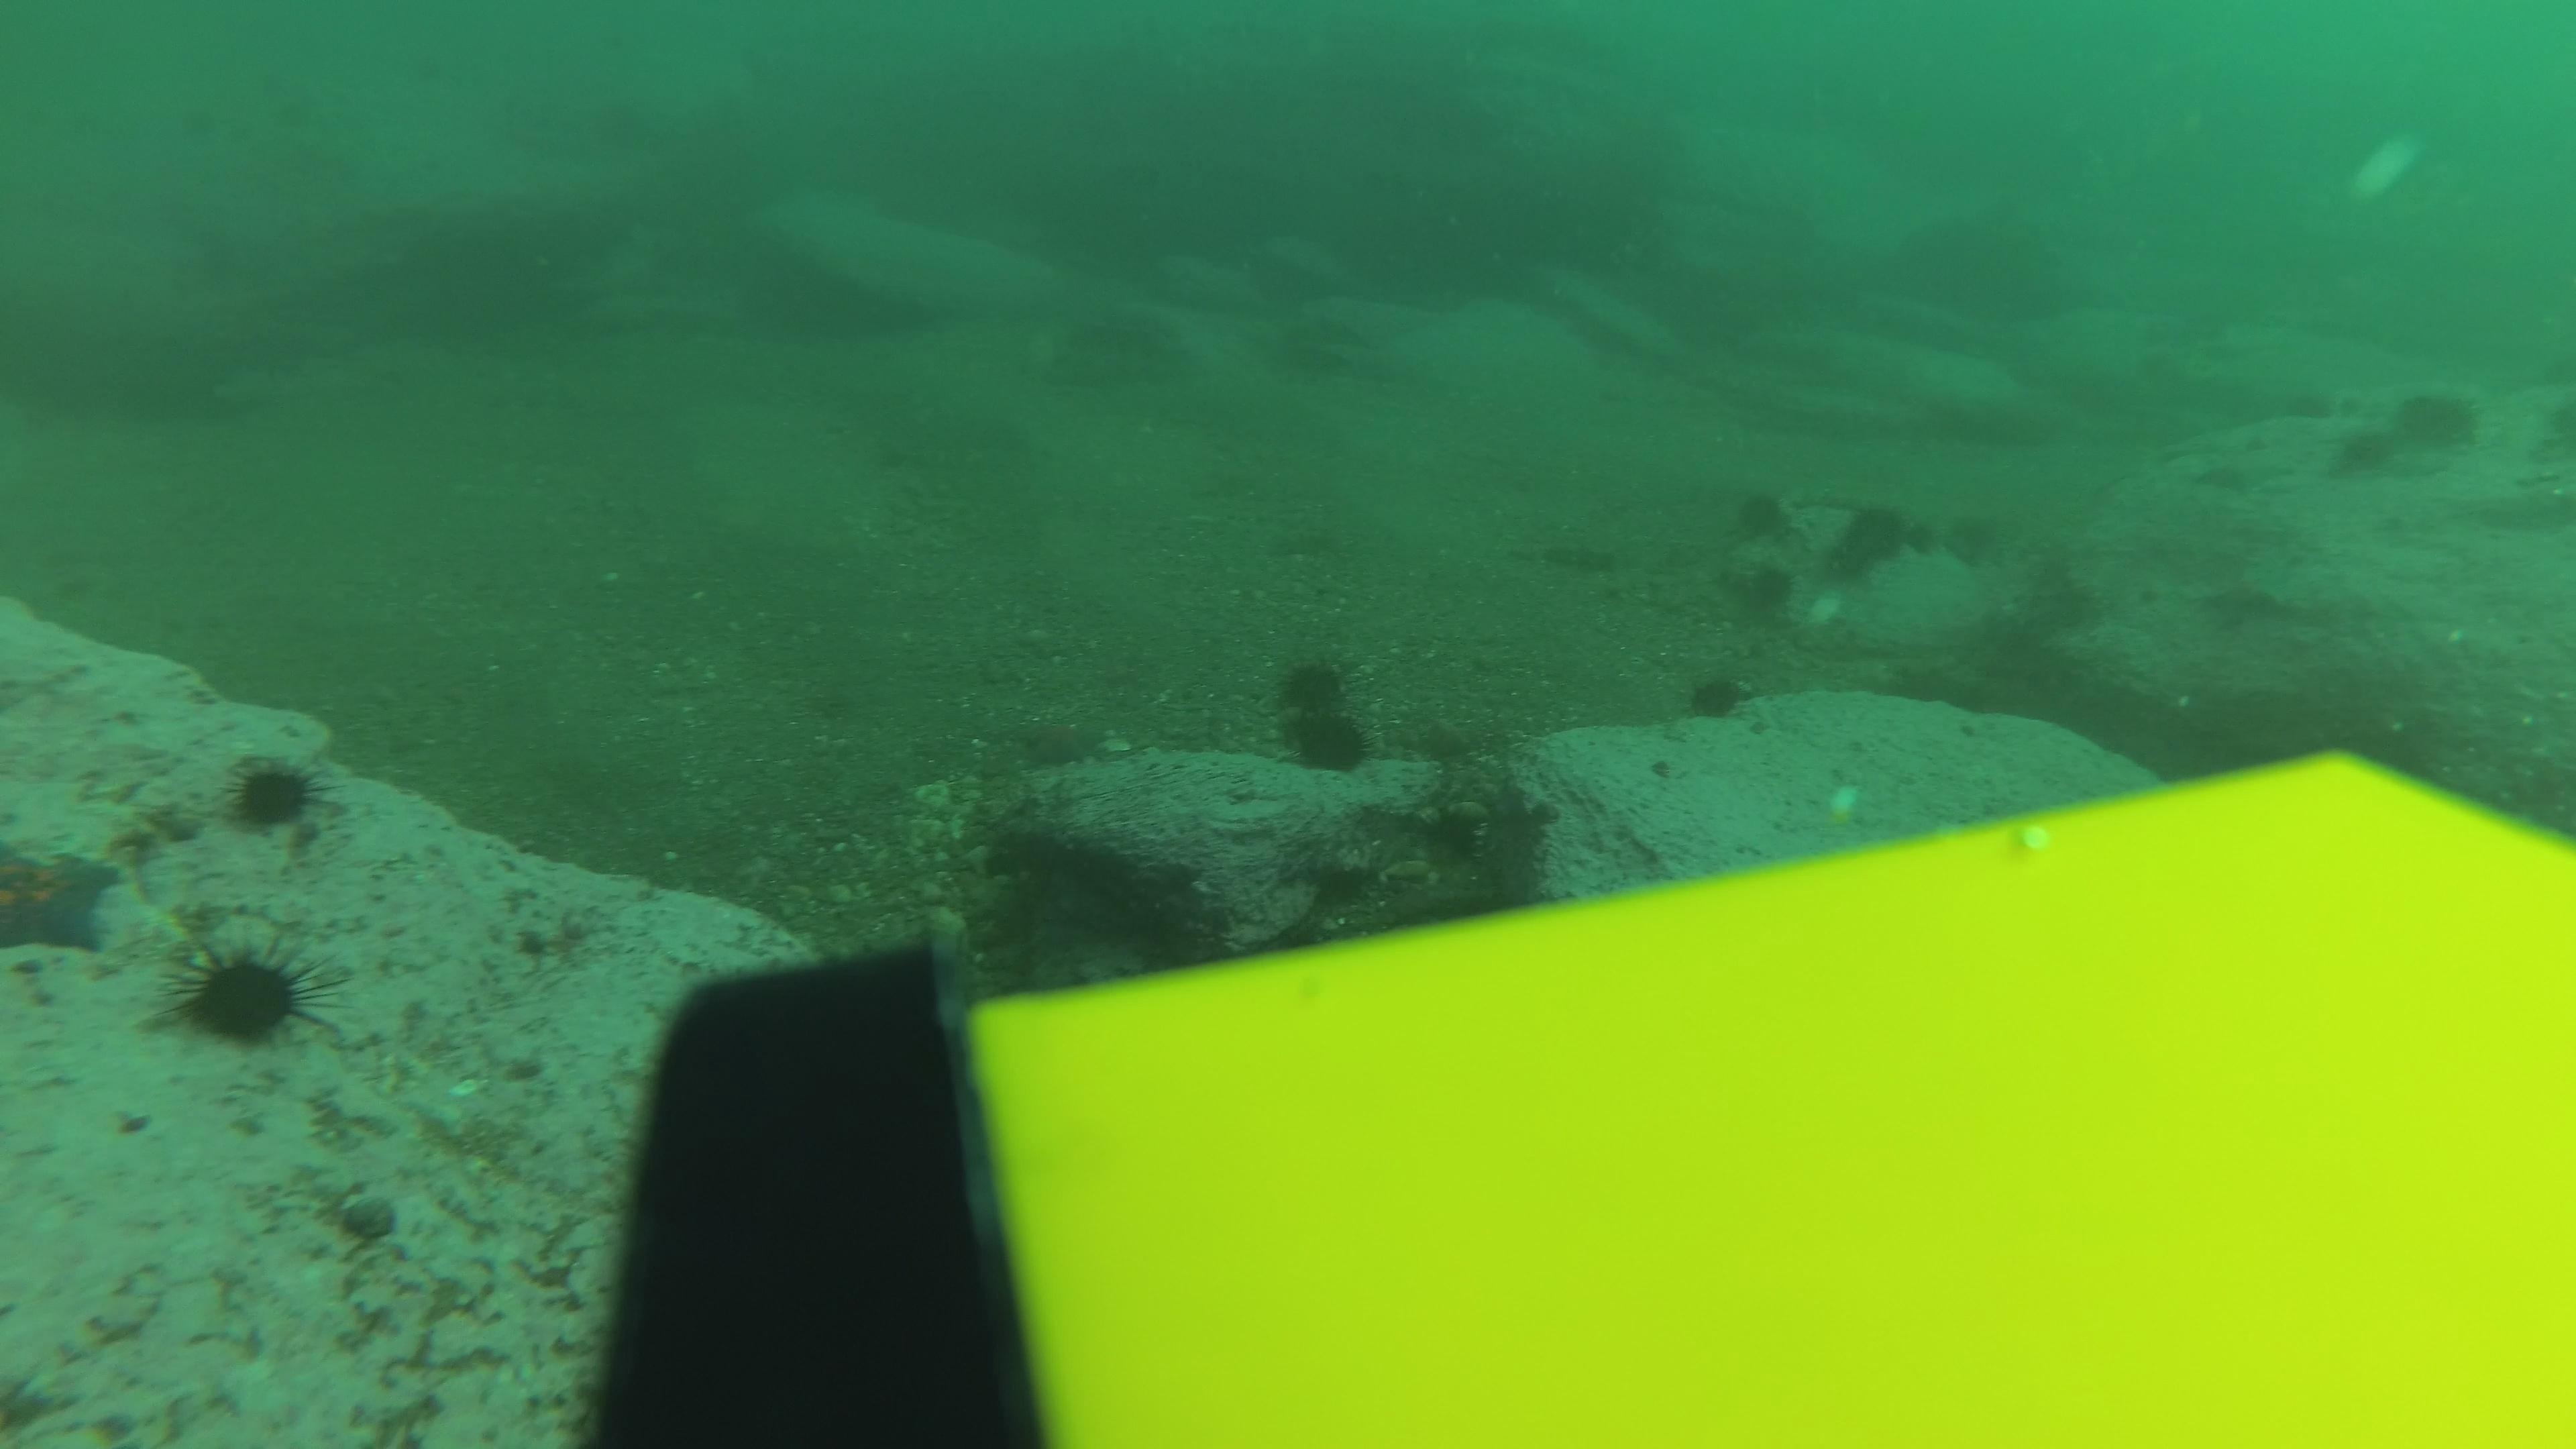echinus: (166, 938, 320, 1054), (218, 750, 333, 844), (1821, 495, 1923, 584), (2396, 380, 2486, 462), (1283, 709, 1376, 777), (1270, 653, 1366, 718), (1723, 557, 1799, 623), (2328, 414, 2404, 478), (1679, 663, 1753, 725), (1729, 483, 1796, 545)
starfish: (2, 835, 124, 962), (1014, 711, 1113, 771), (2187, 449, 2275, 499)
